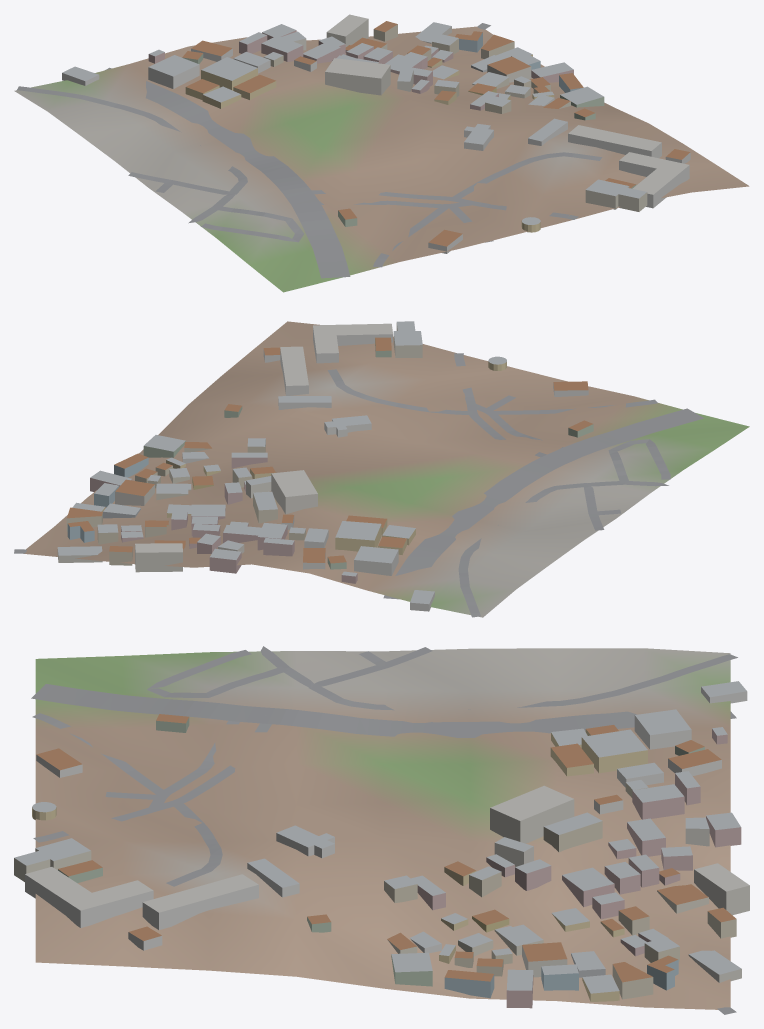
The picture shows the model from 3 angles, top to bottom: view 1: azimuth 30°, elevation 25°; view 2: azimuth 150°, elevation 25°; view 3: azimuth 270°, elevation 25°; orthographic projection. The views are drawn at different scales.
Visible parts, largest first — view 1: Lo; view 2: Lo; view 3: Lo.
Part boxes in pixels (box(x1,y1,x2,y2)): Lo: box(14, 14, 749, 292); Lo: box(14, 321, 749, 617); Lo: box(14, 646, 749, 1014).
Size of the model in its own units: 265 by 33.01 by 271.
